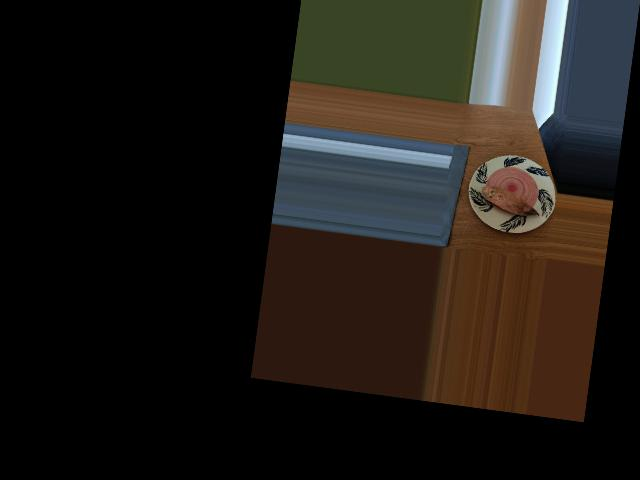sweet_potato: (480, 181, 537, 221)
